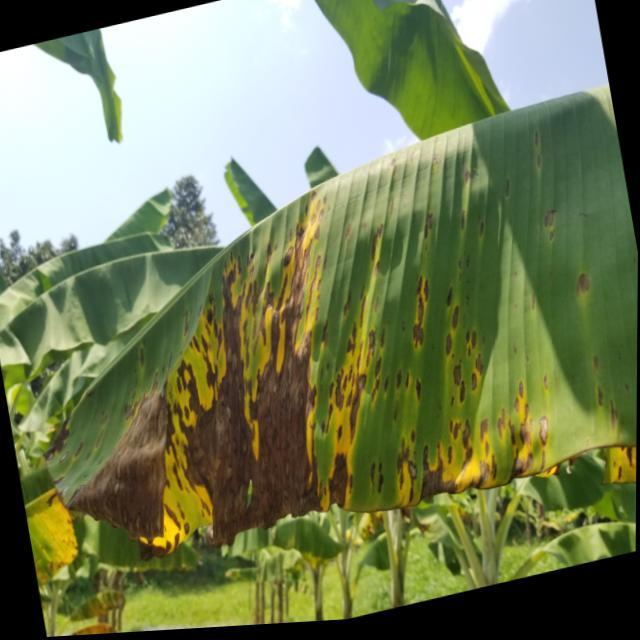Early_rust: (0, 124, 640, 585)
